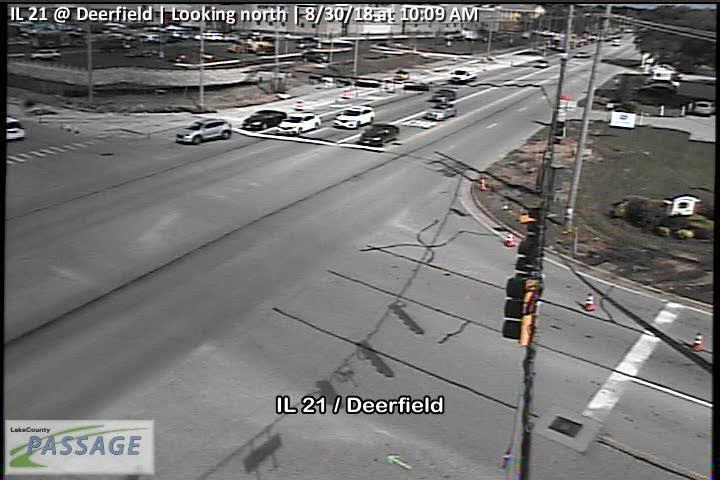SUV: (175, 118, 231, 144)
Sedan: (357, 121, 400, 147), (241, 109, 286, 132), (276, 113, 322, 135), (333, 106, 374, 129), (427, 102, 455, 120), (431, 91, 458, 105)
